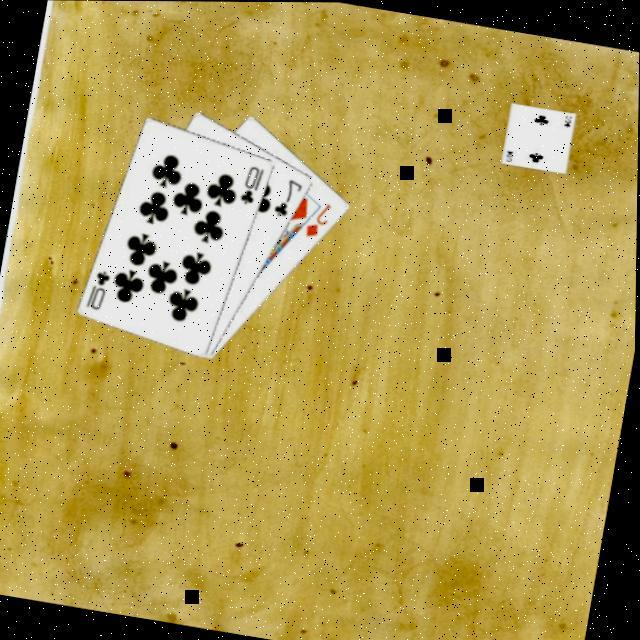10C: (238, 159, 270, 207), (85, 264, 117, 312)
7C: (271, 172, 309, 220)
JD: (303, 194, 338, 240)
